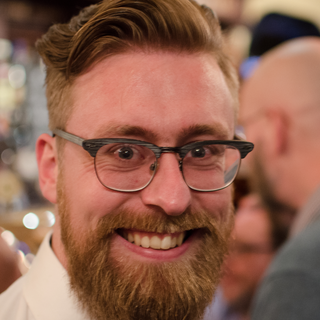eye: (178, 136, 217, 167), (106, 140, 146, 164)
